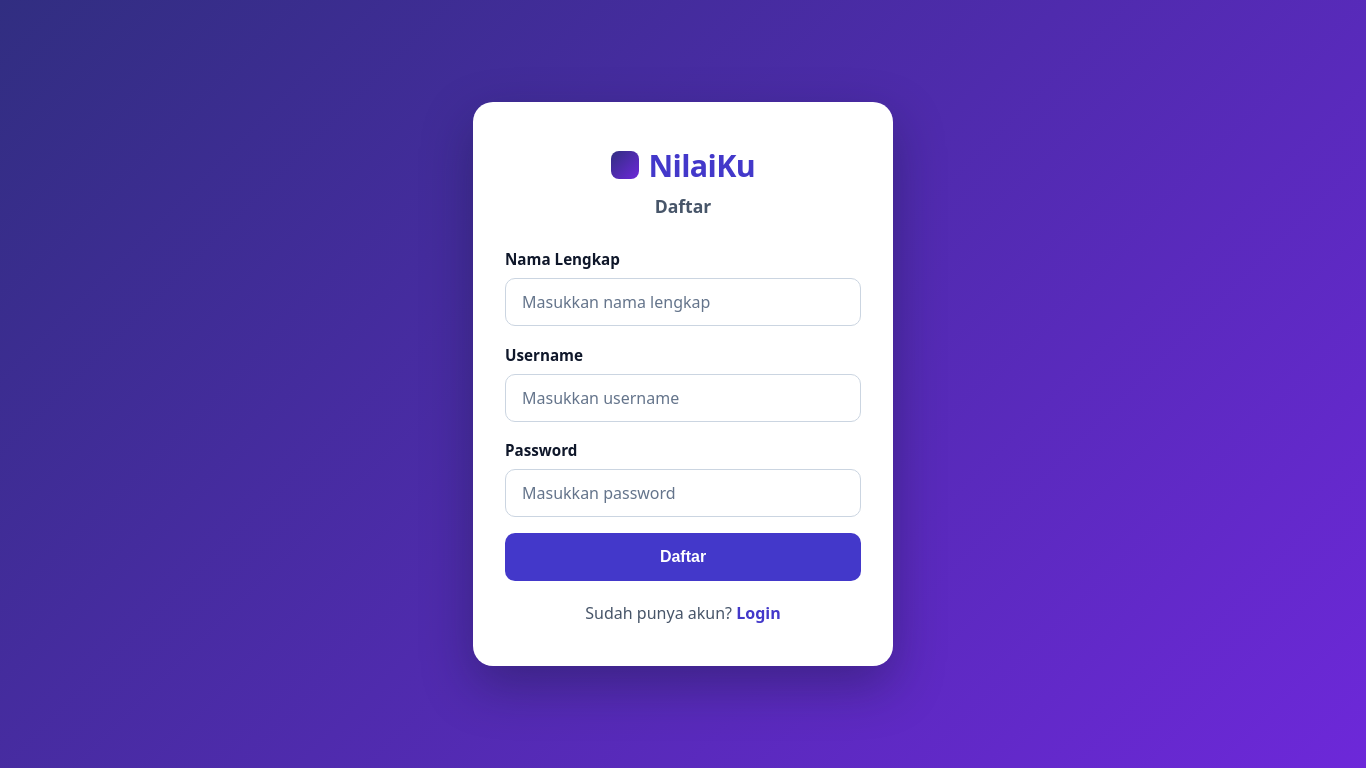
Scenario: Register › menampilkan pesan error dari server
In the field labelled "Nama Lengkap": [683, 302] box x1=505 y1=278 x2=861 y2=326, type "Budi Santoso"
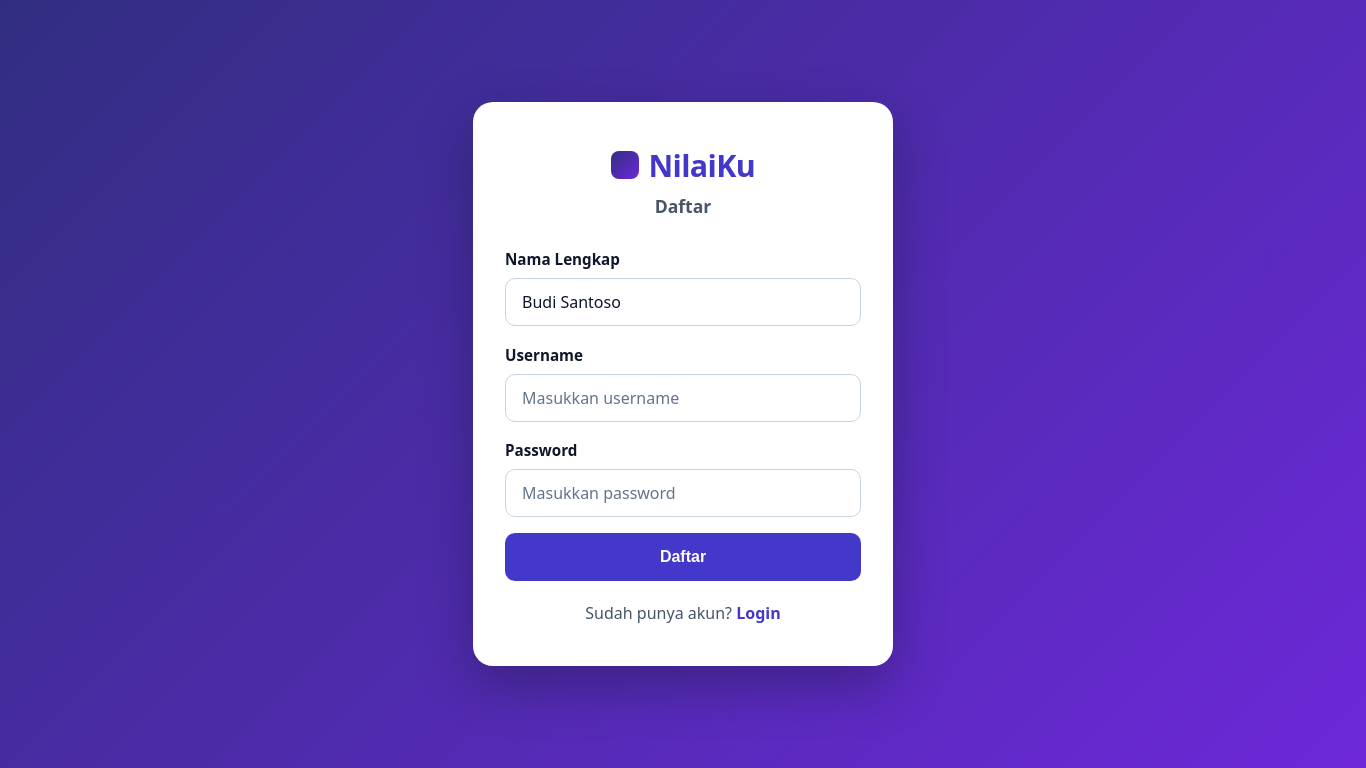
In the field labelled "Username": [683, 398] box x1=505 y1=374 x2=861 y2=422, type "budi"
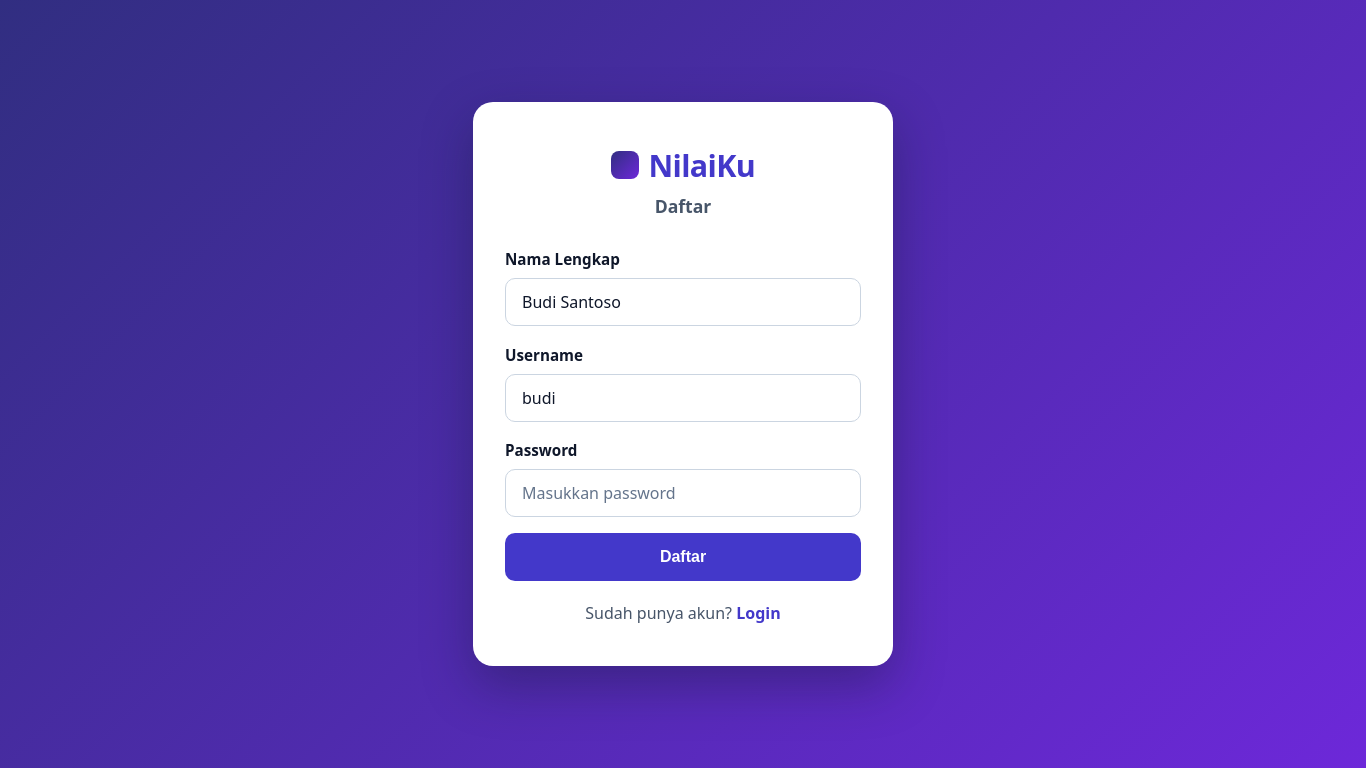
In the password field labelled "Password": [683, 493] box x1=505 y1=469 x2=861 y2=517, type "rahasia"
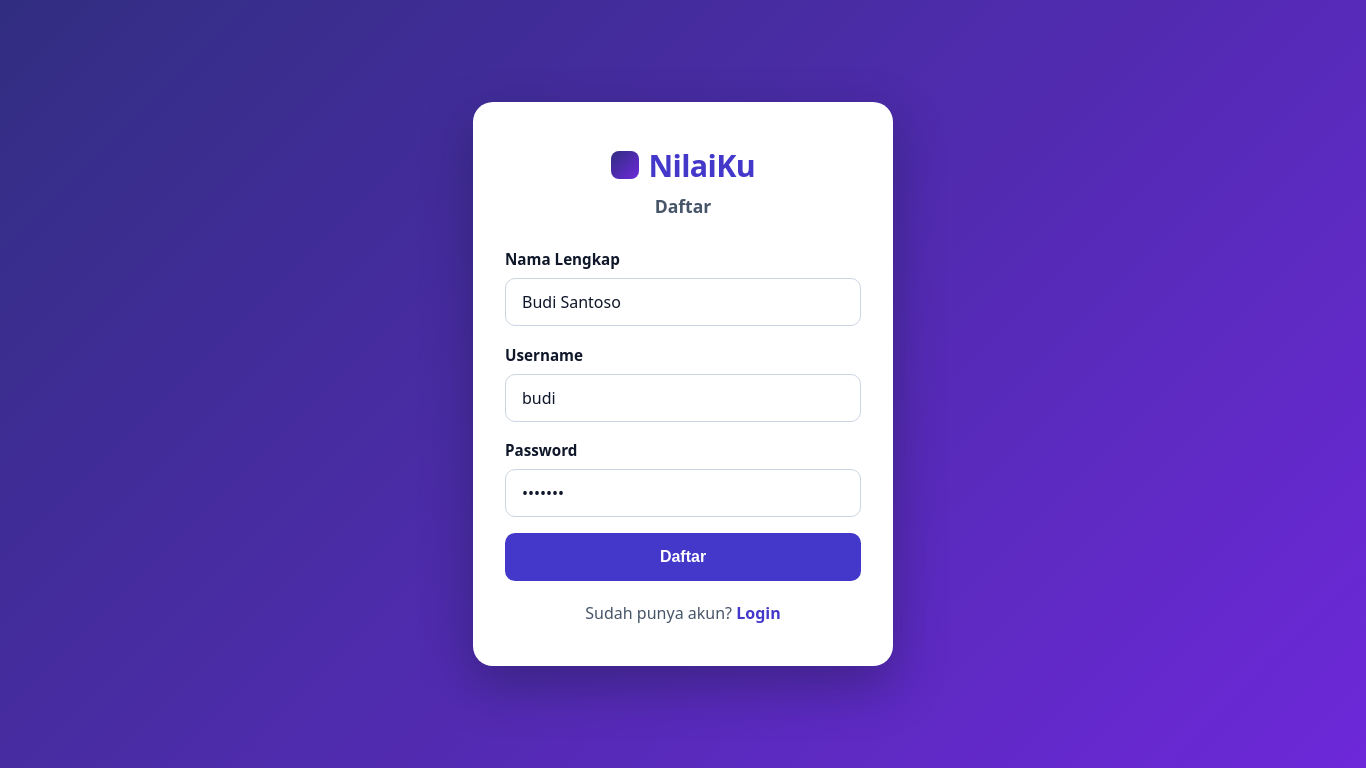
Submit the form "Daftar", box x1=505 y1=248 x2=861 y2=581
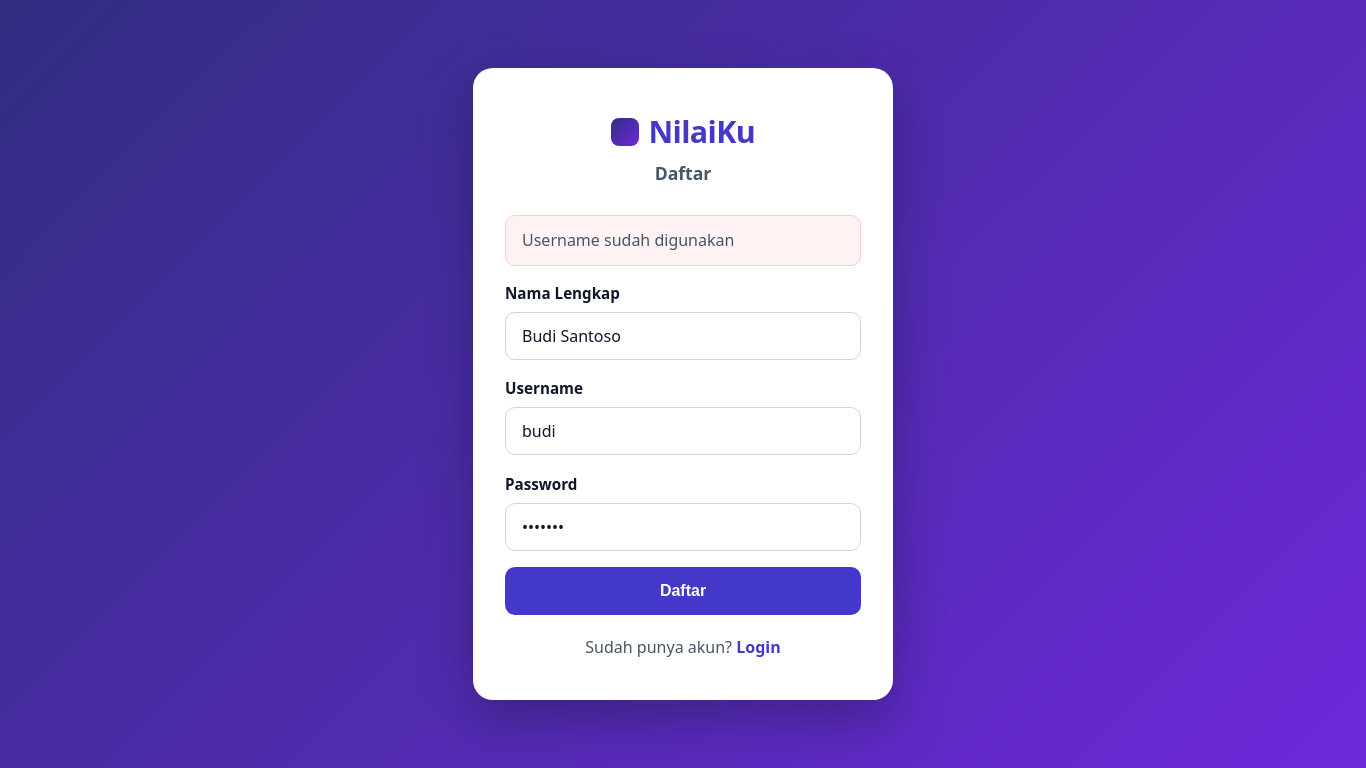
Expected: the text "Username sudah digunakan" is shown, x1=505 y1=215 x2=861 y2=266
